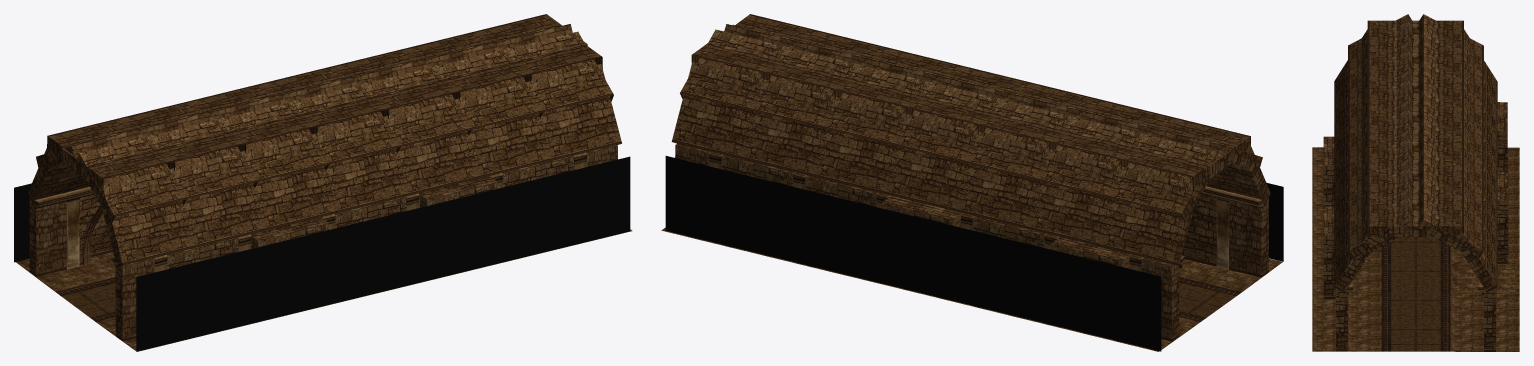
Rendered from TunnelTemplate3.fbx.
3 views of the same model, side by side, from view 1: azimuth 30°, elevation 25°; view 2: azimuth 150°, elevation 25°; view 3: azimuth 270°, elevation 25° (orthographic). The views are drawn at different scales.
Visible parts, largest first — view 1: Plane.022, Plane.057, Plane.055, Plane.060, Plane.059, Plane.058, Plane.056, Plane.035, Floor, Plane.061, Plane.051, Plane.066 (+17 smaller); view 2: Plane.068, Plane.061, Plane.067, Plane.064, Plane.062, Plane.063, Plane.066, Plane.065, Floor, Plane.057, Plane.045, Plane.030 (+16 smaller); view 3: Floor, Plane.064, Plane.060, Plane.067, Plane.061, Plane.066, Plane.063, Plane.062, Plane.065, Plane.055, Plane.059, Plane.058 (+9 smaller).
Part boxes in pixels (x1,y1,x2,y2): Plane.022: (136, 156, 630, 351); Plane.057: (62, 136, 193, 267); Plane.055: (221, 101, 336, 231); Plane.060: (507, 31, 621, 160); Plane.059: (436, 49, 550, 178); Plane.058: (364, 66, 479, 195); Plane.056: (150, 118, 264, 247); Plane.035: (293, 84, 407, 212); Floor: (16, 229, 632, 351); Plane.061: (28, 118, 159, 204); Plane.051: (29, 198, 66, 276); Plane.066: (333, 48, 445, 96); Plane.068: (665, 156, 1161, 351); Plane.061: (1101, 129, 1233, 265); Plane.067: (886, 77, 1018, 211); Plane.064: (671, 24, 803, 159); Plane.062: (1029, 112, 1161, 247); Plane.063: (958, 94, 1089, 229); Plane.066: (814, 59, 946, 194); Plane.065: (743, 42, 875, 176); Floor: (661, 227, 1282, 351); Plane.057: (1153, 119, 1270, 204); Plane.045: (1229, 198, 1268, 277); Plane.030: (1182, 193, 1216, 266); Floor: (1312, 147, 1519, 351); Plane.064: (1394, 190, 1497, 292); Plane.060: (1334, 190, 1432, 292); Plane.067: (1394, 102, 1497, 198); Plane.061: (1394, 14, 1497, 110); Plane.066: (1394, 132, 1497, 228); Plane.063: (1394, 73, 1497, 169); Plane.062: (1394, 43, 1497, 139); Plane.065: (1394, 161, 1497, 257); Plane.055: (1334, 73, 1411, 168); Plane.059: (1334, 161, 1411, 256); Plane.058: (1334, 132, 1411, 227).
Bounding box in the file's own units: 17519 × 5287 × 7446.
